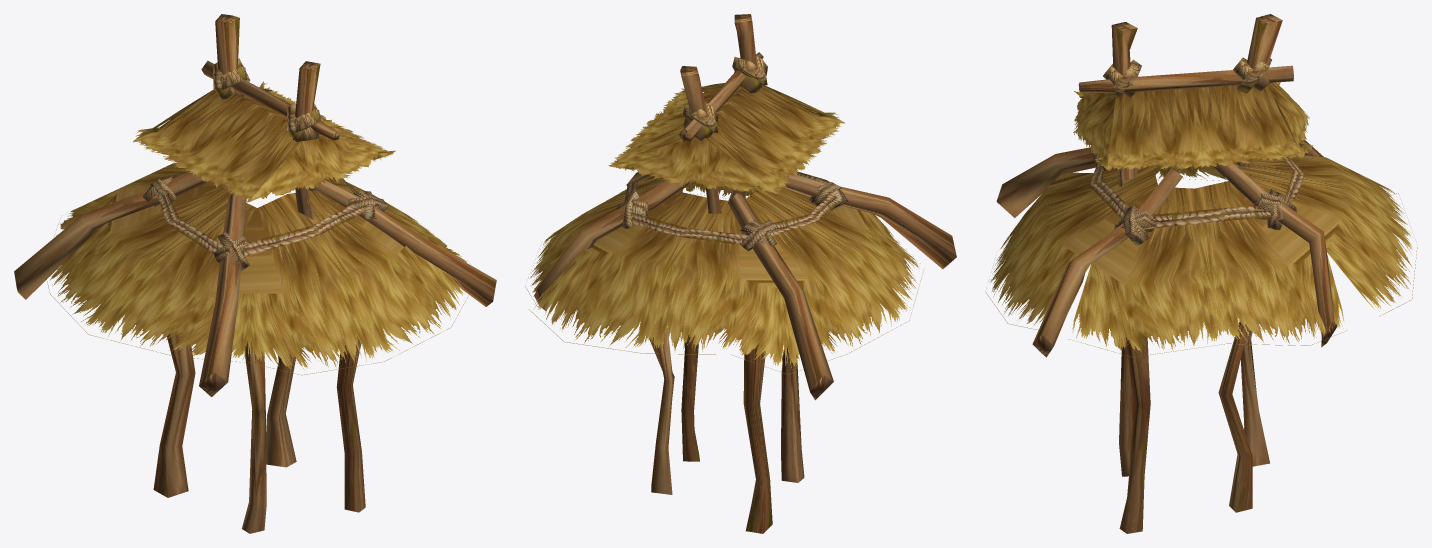
Rendered from environment_Building_caopeng_004_a.FBX.
3 renders of one model, left to right at view 1: azimuth 30°, elevation 25°; view 2: azimuth 150°, elevation 25°; view 3: azimuth 270°, elevation 25°, orthographic. The views are drawn at different scales.
Parts seen in each view (by area): view 1: environment_Building_caopeng_004_b, environment_Building_caopeng_004_a; view 2: environment_Building_caopeng_004_b, environment_Building_caopeng_004_a; view 3: environment_Building_caopeng_004_b, environment_Building_caopeng_004_a.
Part boxes in pixels (x1,y1,x2,y2): environment_Building_caopeng_004_b: (46,81,469,375); environment_Building_caopeng_004_a: (14,14,496,533); environment_Building_caopeng_004_b: (525,83,923,374); environment_Building_caopeng_004_a: (534,14,956,533); environment_Building_caopeng_004_b: (986,82,1417,357); environment_Building_caopeng_004_a: (996,14,1337,533).
Size of the model in its own units: 244 by 299 by 244.
